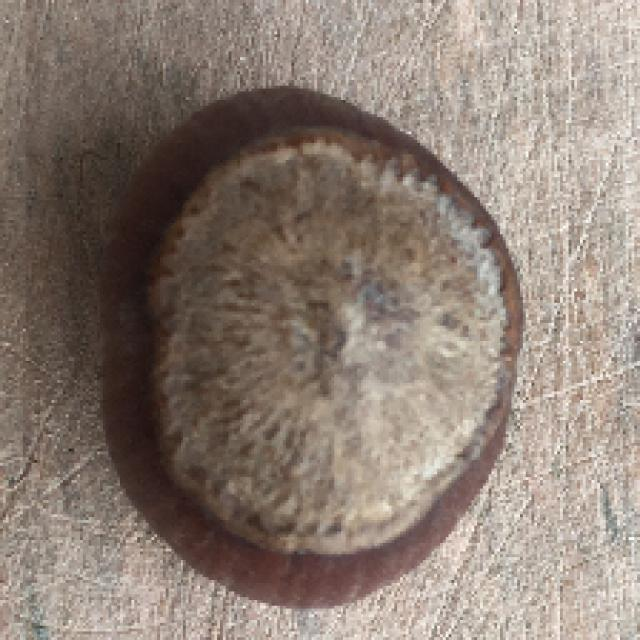qualityHazelnut: (88, 86, 526, 614)
